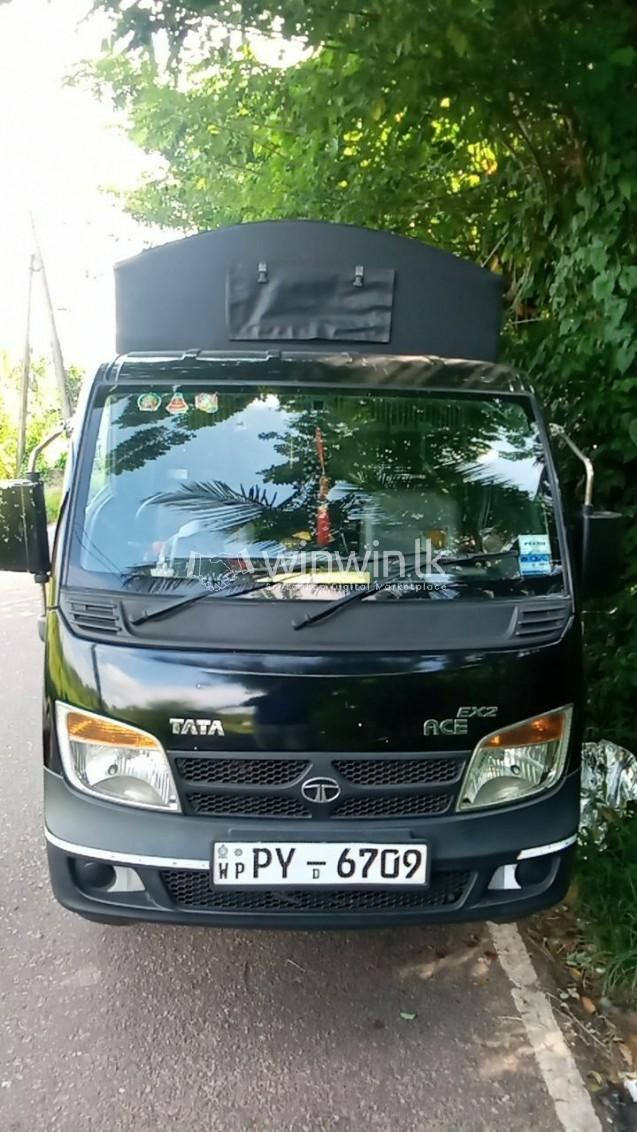truck: (2, 217, 624, 928)
